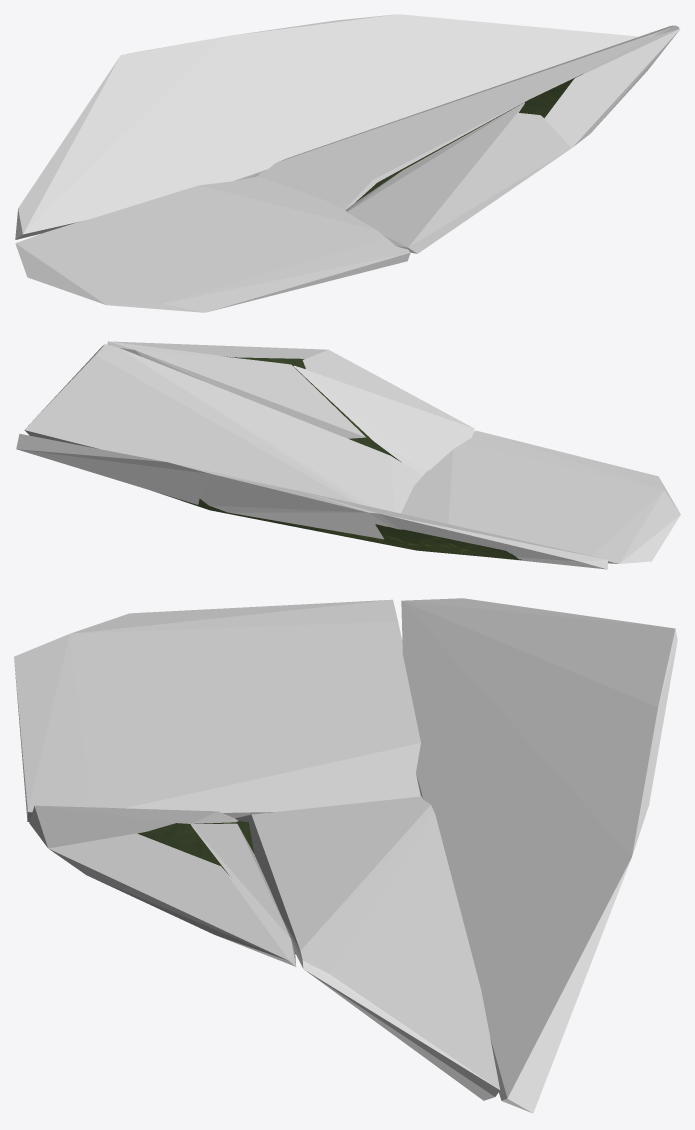
Rendered from SM_Leaf_06.fbx.
3 views of the same model, one above another, from view 1: azimuth 30°, elevation 25°; view 2: azimuth 150°, elevation 25°; view 3: azimuth 270°, elevation 25° (orthographic). The views are drawn at different scales.
Parts seen in each view (by area): view 1: SM_Leaf_06_ConvexHulls, SM_Leaf_06_LOD0; view 2: SM_Leaf_06_ConvexHulls, SM_Leaf_06_LOD0; view 3: SM_Leaf_06_ConvexHulls, SM_Leaf_06_LOD0.
Boxes of the visible parts, bbox=[...] form: SM_Leaf_06_ConvexHulls: bbox=[15, 14, 680, 312]; SM_Leaf_06_LOD0: bbox=[355, 74, 582, 202]; SM_Leaf_06_ConvexHulls: bbox=[16, 341, 680, 569]; SM_Leaf_06_LOD0: bbox=[156, 356, 522, 559]; SM_Leaf_06_ConvexHulls: bbox=[14, 598, 677, 1113]; SM_Leaf_06_LOD0: bbox=[137, 821, 295, 953].
Bounding box in the file's own units: 24.01 × 12.62 × 3.57.
